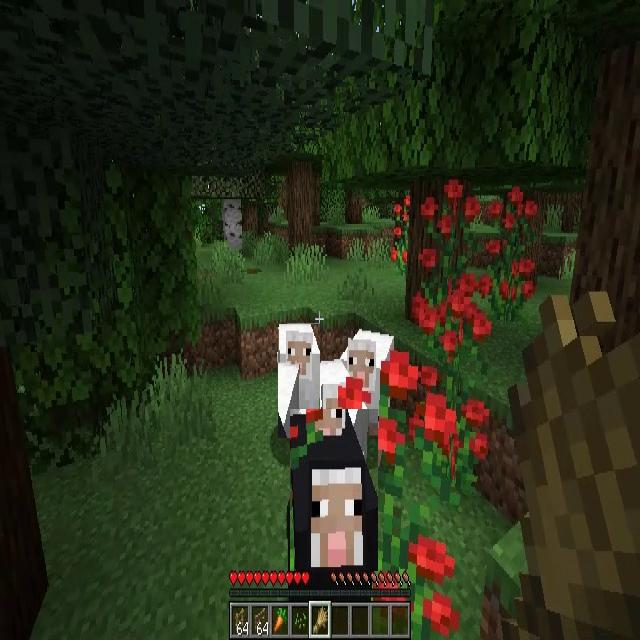sheep: (290, 409, 378, 571), (300, 360, 369, 465), (278, 324, 320, 438), (346, 333, 395, 421)
